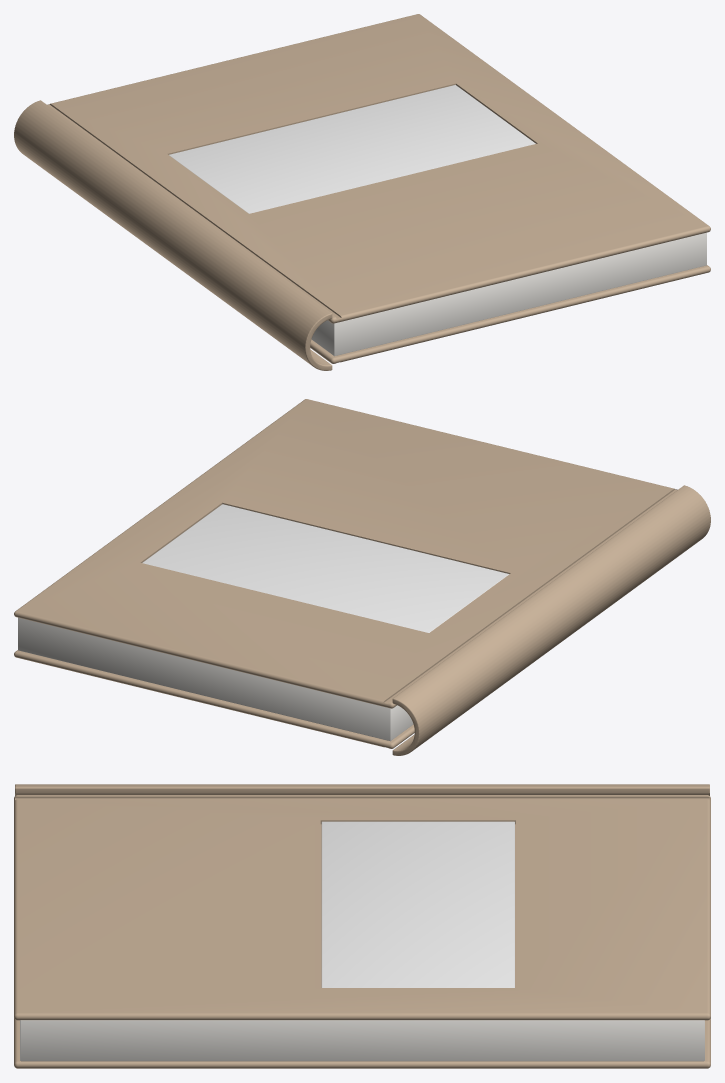
File: photo-panoramic--portrait.glb
3 renders of one model, top to bottom at view 1: azimuth 30°, elevation 25°; view 2: azimuth 150°, elevation 25°; view 3: azimuth 270°, elevation 25°, orthographic. The views are drawn at different scales.
Visible parts, largest first — view 1: CoverFront, Photo, Spine, Pages, CoverBack; view 2: CoverFront, Photo, Spine, Pages, CoverBack; view 3: CoverFront, Photo, Pages, Spine, CoverBack.
Part boxes in pixels (x1=…): CoverFront: x1=47, y1=14, x2=710, y2=323; Photo: x1=169, y1=85, x2=535, y2=213; Spine: x1=14, y1=100, x2=332, y2=370; Pages: x1=311, y1=232, x2=706, y2=356; CoverBack: x1=310, y1=265, x2=710, y2=363; CoverFront: x1=14, y1=399, x2=677, y2=708; Photo: x1=142, y1=504, x2=509, y2=632; Spine: x1=392, y1=485, x2=710, y2=755; Pages: x1=18, y1=617, x2=413, y2=741; CoverBack: x1=14, y1=650, x2=414, y2=748; CoverFront: x1=14, y1=795, x2=710, y2=1020; Photo: x1=321, y1=821, x2=514, y2=987; Pages: x1=20, y1=1020, x2=704, y2=1061; Spine: x1=15, y1=784, x2=709, y2=795; CoverBack: x1=14, y1=1018, x2=710, y2=1068.
Size of the model in its own units: 0.3208 by 0.043 by 0.4.
